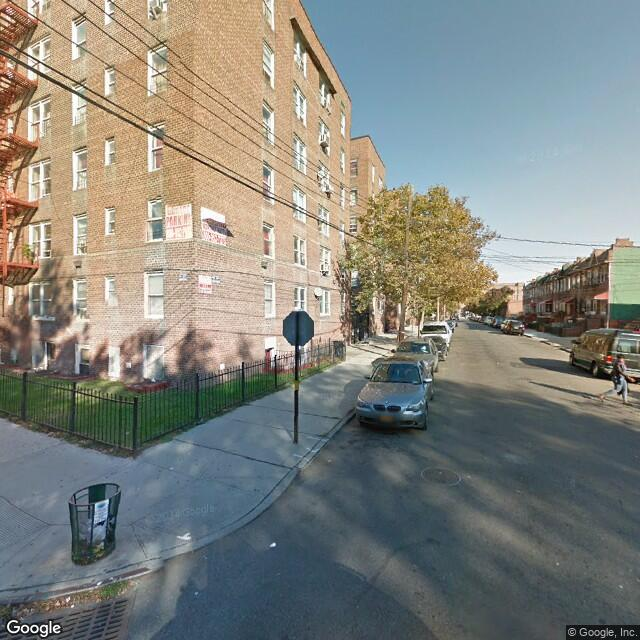litter: (268, 542, 277, 549), (170, 464, 177, 468), (71, 596, 76, 598), (97, 583, 100, 585), (71, 604, 75, 605)
